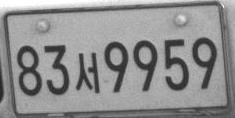3: (44, 44, 70, 95)
5: (162, 38, 189, 91)
8: (15, 44, 43, 95)
9: (132, 39, 159, 92), (191, 36, 218, 89), (103, 40, 129, 93)
서: (75, 51, 100, 94)
